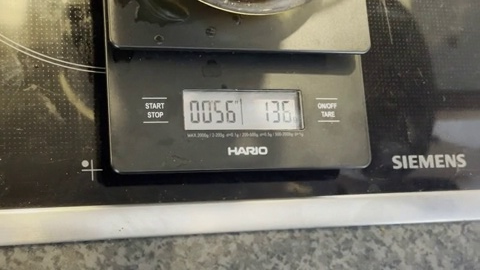display: (183, 89, 302, 129)
